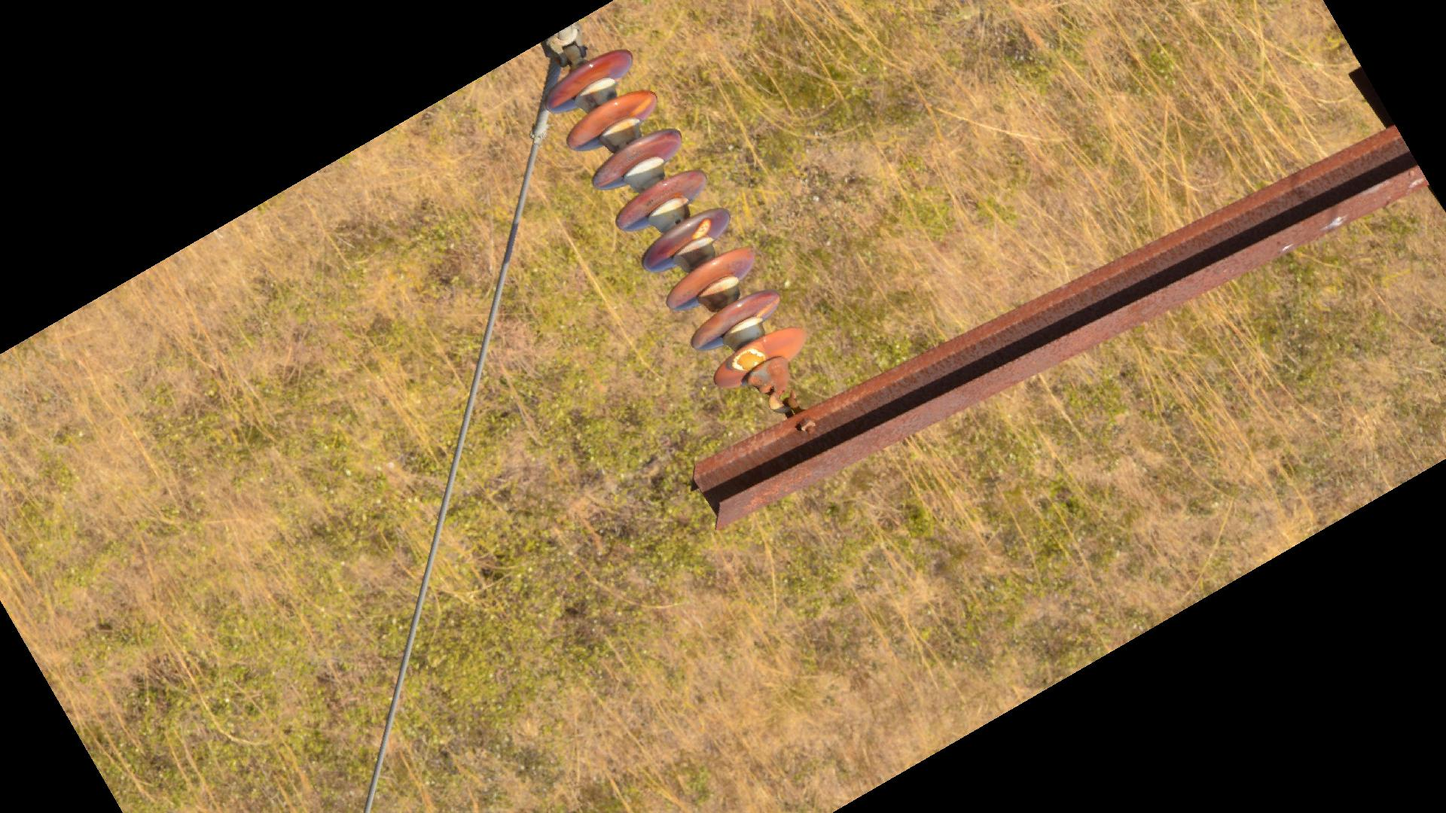insulator: (541, 45, 812, 394)
insulator_flashover: (731, 347, 767, 373), (752, 295, 782, 318), (689, 216, 714, 241), (627, 96, 653, 118)
